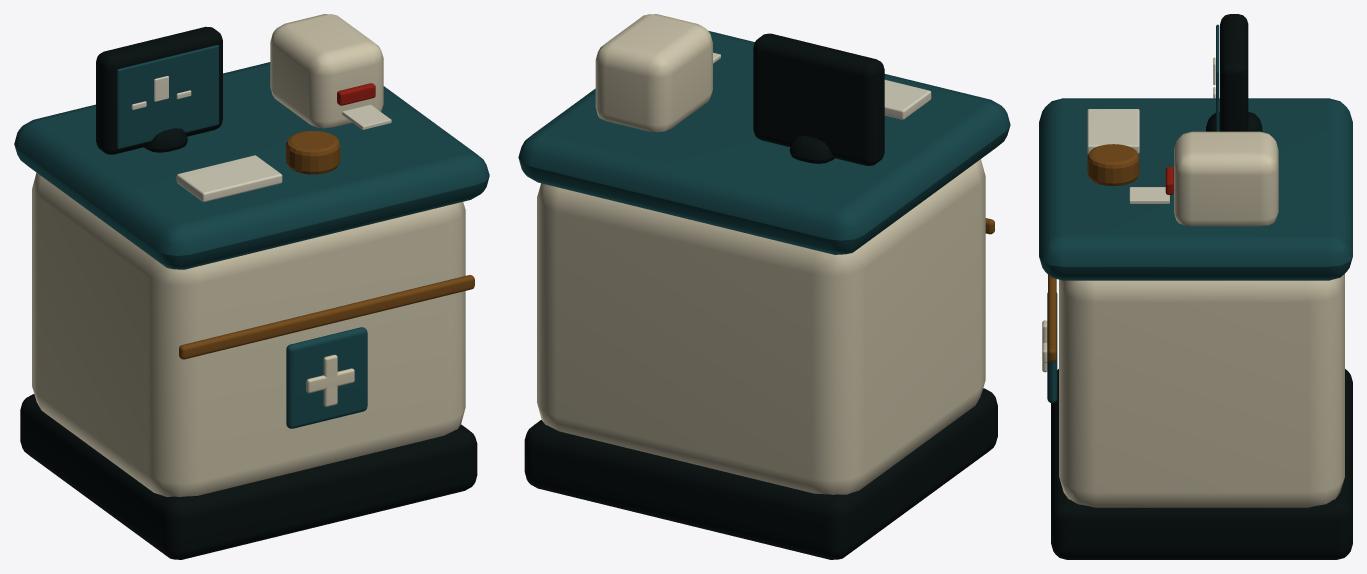
The model's file is reception.glb.
3 renders of one model, left to right at view 1: azimuth 30°, elevation 25°; view 2: azimuth 150°, elevation 25°; view 3: azimuth 270°, elevation 25°, orthographic. The views are drawn at different scales.
Parts seen in each view (by area): view 1: Apparatus; view 2: Apparatus; view 3: Apparatus.
Boxes of the visible parts, x1=… form: Apparatus: x1=14, y1=14, x2=489, y2=559; Apparatus: x1=518, y1=14, x2=1010, y2=559; Apparatus: x1=1039, y1=14, x2=1352, y2=559.
Bounding box in the file's own units: 0.91 × 1.15 × 0.78.
